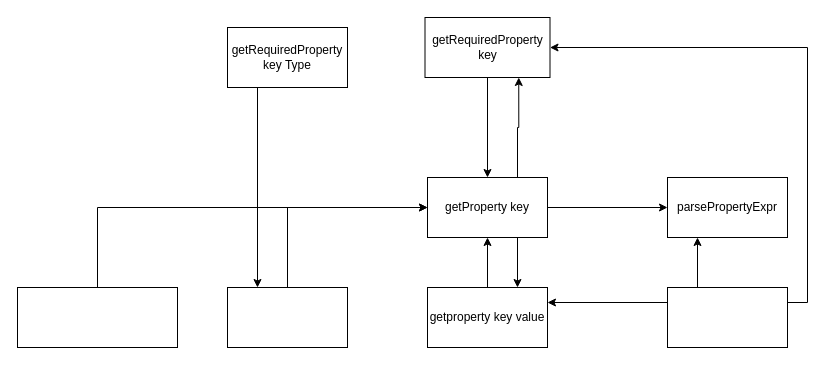
Image size: 833x365. Some labels were removed from this diagram. Each missing label, with the centre of its shape:
getProperty key Type: point 287,317
getProperty key Type value: point 97,317
parseValue: point 727,317
